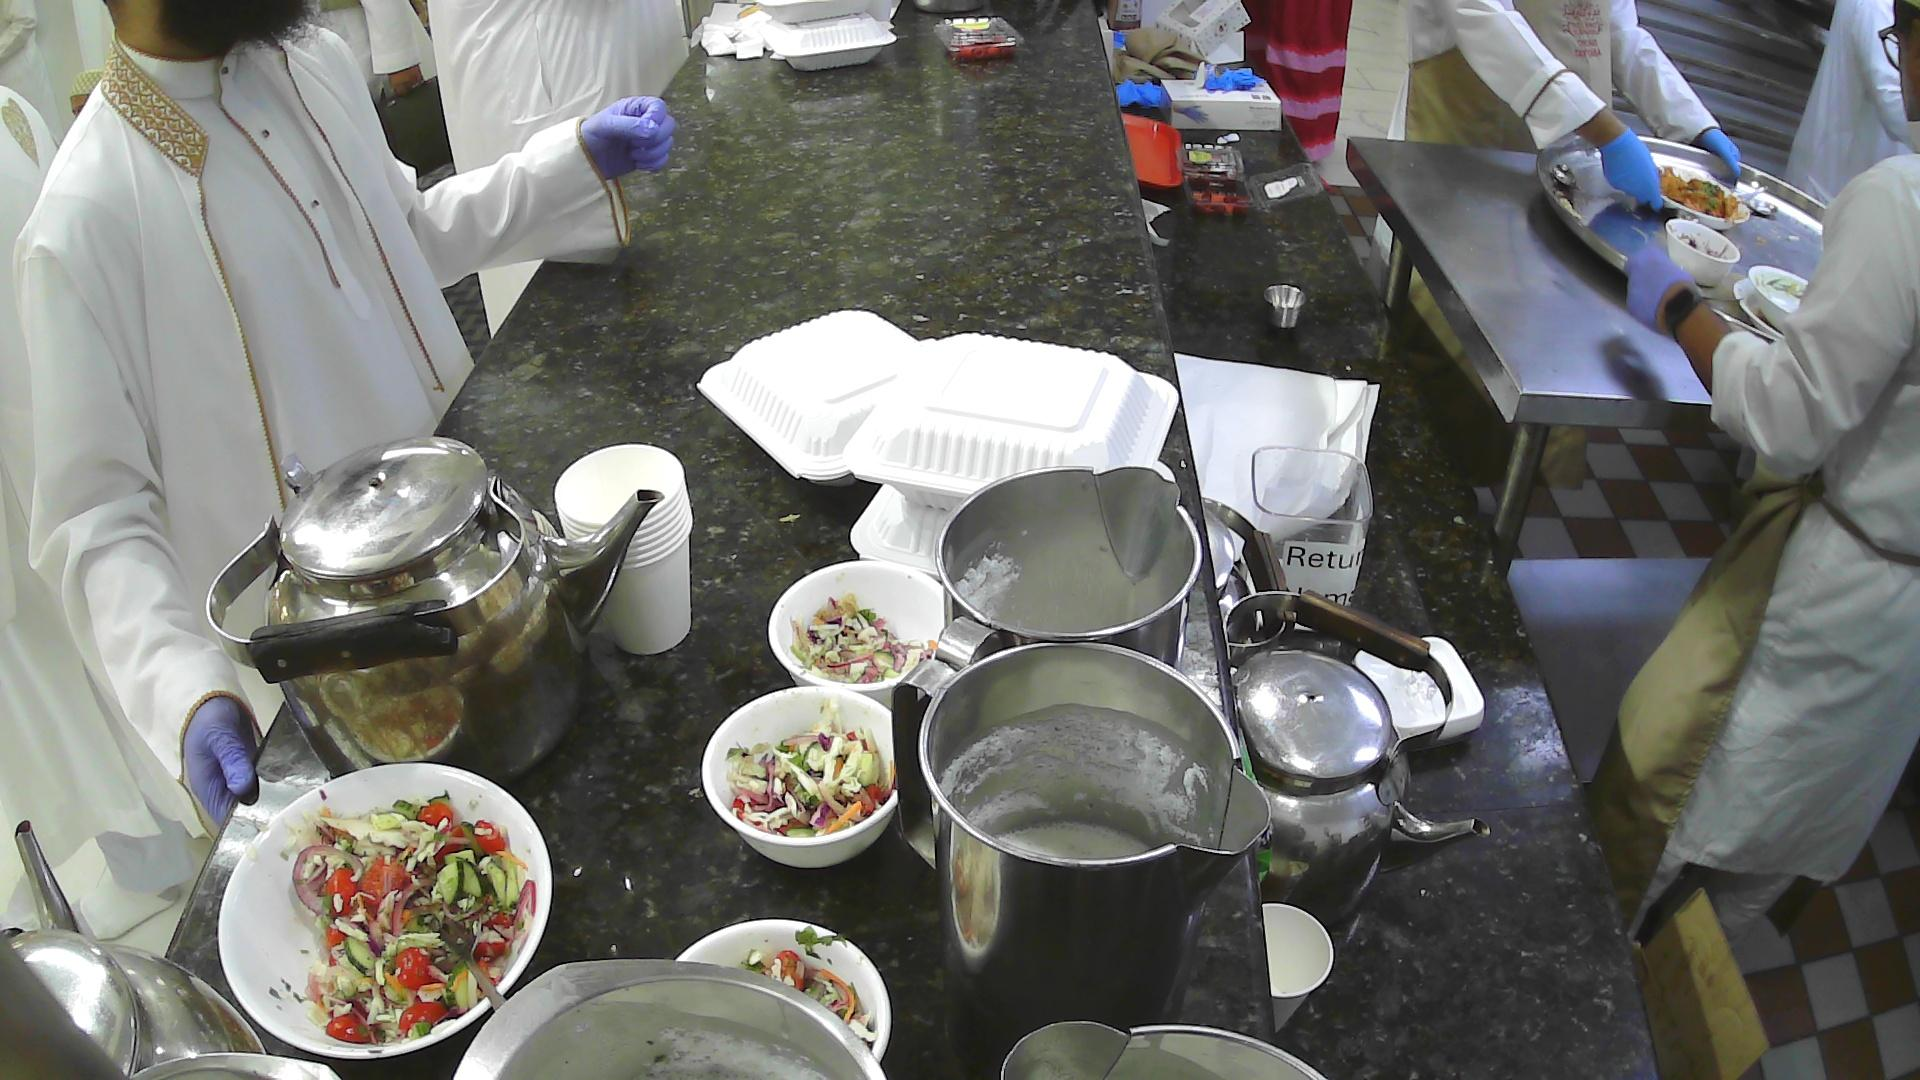thaal: (1534, 132, 1827, 348)
